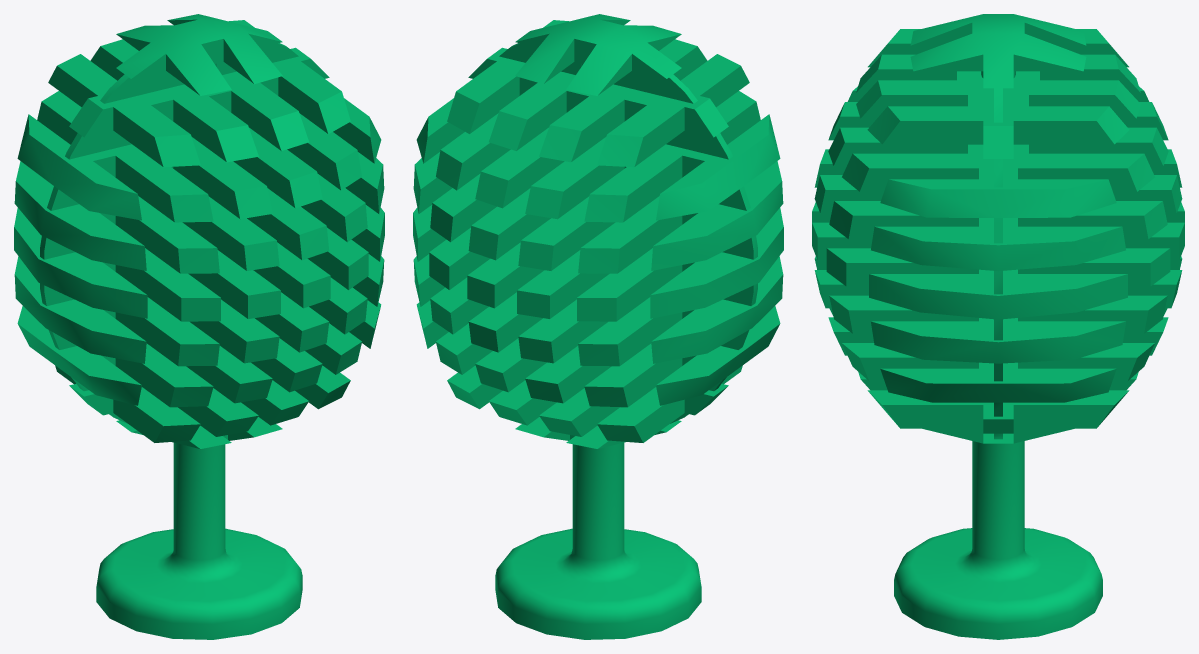
File: roundTree.fbx
3 renders of one model, left to right at view 1: azimuth 30°, elevation 25°; view 2: azimuth 150°, elevation 25°; view 3: azimuth 270°, elevation 25°, orthographic.
Visible parts, largest first — view 1: Piece601; view 2: Piece601; view 3: Piece601.
Boxes of the visible parts, left/top/right/bottom form: Piece601: left=14, top=14, right=384, bottom=639; Piece601: left=413, top=14, right=783, bottom=639; Piece601: left=812, top=14, right=1184, bottom=639.
Bounding box in the file's own units: 859 × 1439 × 856.
